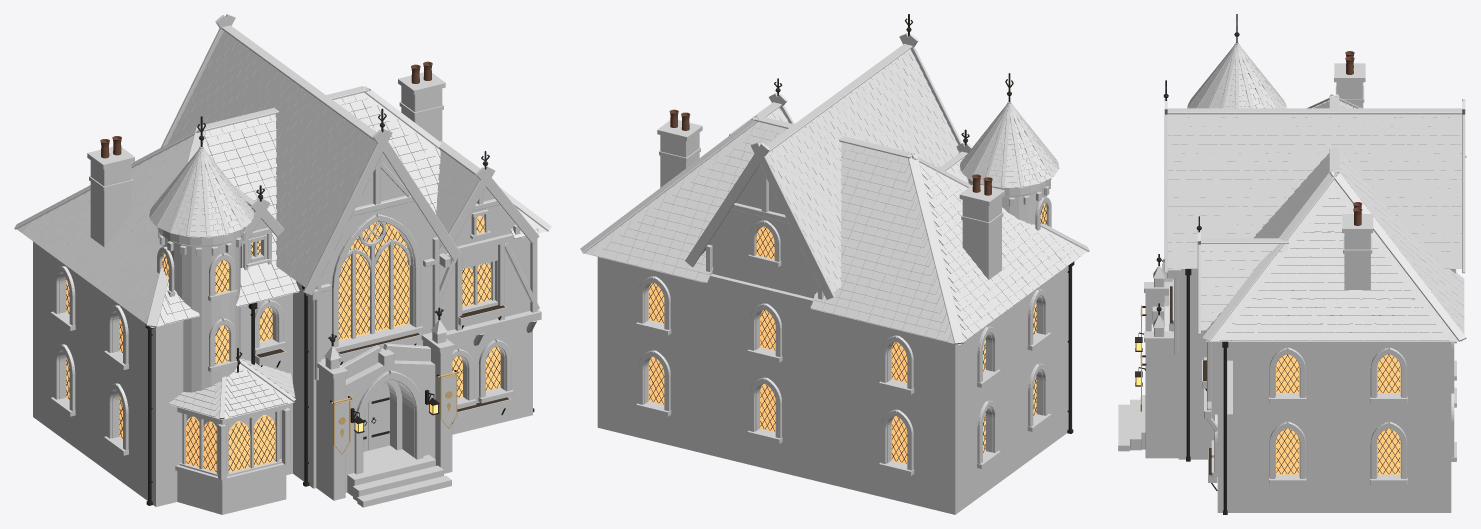
The model's file is SilverbrookNorthridgeHouse3.glb.
The picture shows the model from 3 angles, left to right: view 1: azimuth 30°, elevation 25°; view 2: azimuth 150°, elevation 25°; view 3: azimuth 270°, elevation 25°; orthographic projection. The views are drawn at different scales.
Visible parts, largest first — view 1: SM_SBNorthridgeHouse3_Masonry, SM_SBNorthridgeHouse3_Roof, SM_SBNorthridgeHouse3_Dressed, SM_SBNorthridgeHouse3_Timber, SM_SBNorthridgeHouse3_Details, SM_SBNorthridgeHouse3_Door2; view 2: SM_SBNorthridgeHouse3_Masonry, SM_SBNorthridgeHouse3_Roof, SM_SBNorthridgeHouse3_Dressed, SM_SBNorthridgeHouse3_Details, SM_SBNorthridgeHouse3_Timber; view 3: SM_SBNorthridgeHouse3_Roof, SM_SBNorthridgeHouse3_Masonry, SM_SBNorthridgeHouse3_Dressed, SM_SBNorthridgeHouse3_Details, SM_SBNorthridgeHouse3_Timber.
Part boxes in pixels (left/top/right/bottom): SM_SBNorthridgeHouse3_Masonry: left=33, top=86, right=532, bottom=514; SM_SBNorthridgeHouse3_Roof: left=14, top=25, right=551, bottom=419; SM_SBNorthridgeHouse3_Dressed: left=50, top=72, right=513, bottom=507; SM_SBNorthridgeHouse3_Timber: left=158, top=14, right=541, bottom=480; SM_SBNorthridgeHouse3_Details: left=66, top=61, right=534, bottom=505; SM_SBNorthridgeHouse3_Door2: left=368, top=382, right=389, bottom=450; SM_SBNorthridgeHouse3_Masonry: left=597, top=133, right=1072, bottom=514; SM_SBNorthridgeHouse3_Roof: left=580, top=44, right=1089, bottom=344; SM_SBNorthridgeHouse3_Dressed: left=636, top=120, right=1051, bottom=475; SM_SBNorthridgeHouse3_Details: left=648, top=14, right=1074, bottom=463; SM_SBNorthridgeHouse3_Timber: left=685, top=33, right=1050, bottom=307; SM_SBNorthridgeHouse3_Roof: left=1161, top=42, right=1466, bottom=341; SM_SBNorthridgeHouse3_Masonry: left=1178, top=82, right=1451, bottom=512; SM_SBNorthridgeHouse3_Dressed: left=1118, top=63, right=1456, bottom=484; SM_SBNorthridgeHouse3_Details: left=1135, top=14, right=1400, bottom=514; SM_SBNorthridgeHouse3_Timber: left=1164, top=99, right=1465, bottom=482.
Size of the model in its own units: 11.4 by 9.92 by 8.95.
